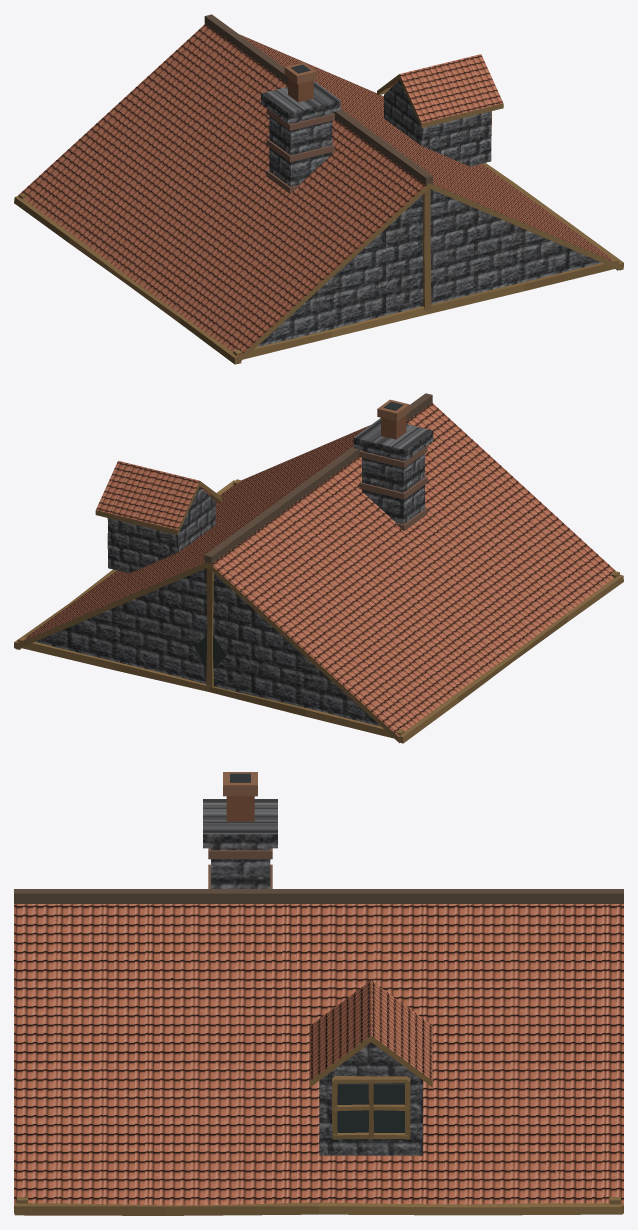
Rendered from town_Roof_guard_2_gable.glb.
The picture shows the model from 3 angles, top to bottom: view 1: azimuth 30°, elevation 25°; view 2: azimuth 150°, elevation 25°; view 3: azimuth 270°, elevation 25°; orthographic projection. The views are drawn at different scales.
Visible parts, largest first — view 1: town_Roof_guard_2_gable.005; view 2: town_Roof_guard_2_gable.005; view 3: town_Roof_guard_2_gable.005.
Boxes of the visible parts, left/top/right/bottom form: town_Roof_guard_2_gable.005: left=14, top=14, right=623, bottom=364; town_Roof_guard_2_gable.005: left=14, top=393, right=623, bottom=743; town_Roof_guard_2_gable.005: left=14, top=772, right=623, bottom=1215.
Size of the model in its own units: 7.13 by 3.49 by 7.
3 materials, 2 textured.
